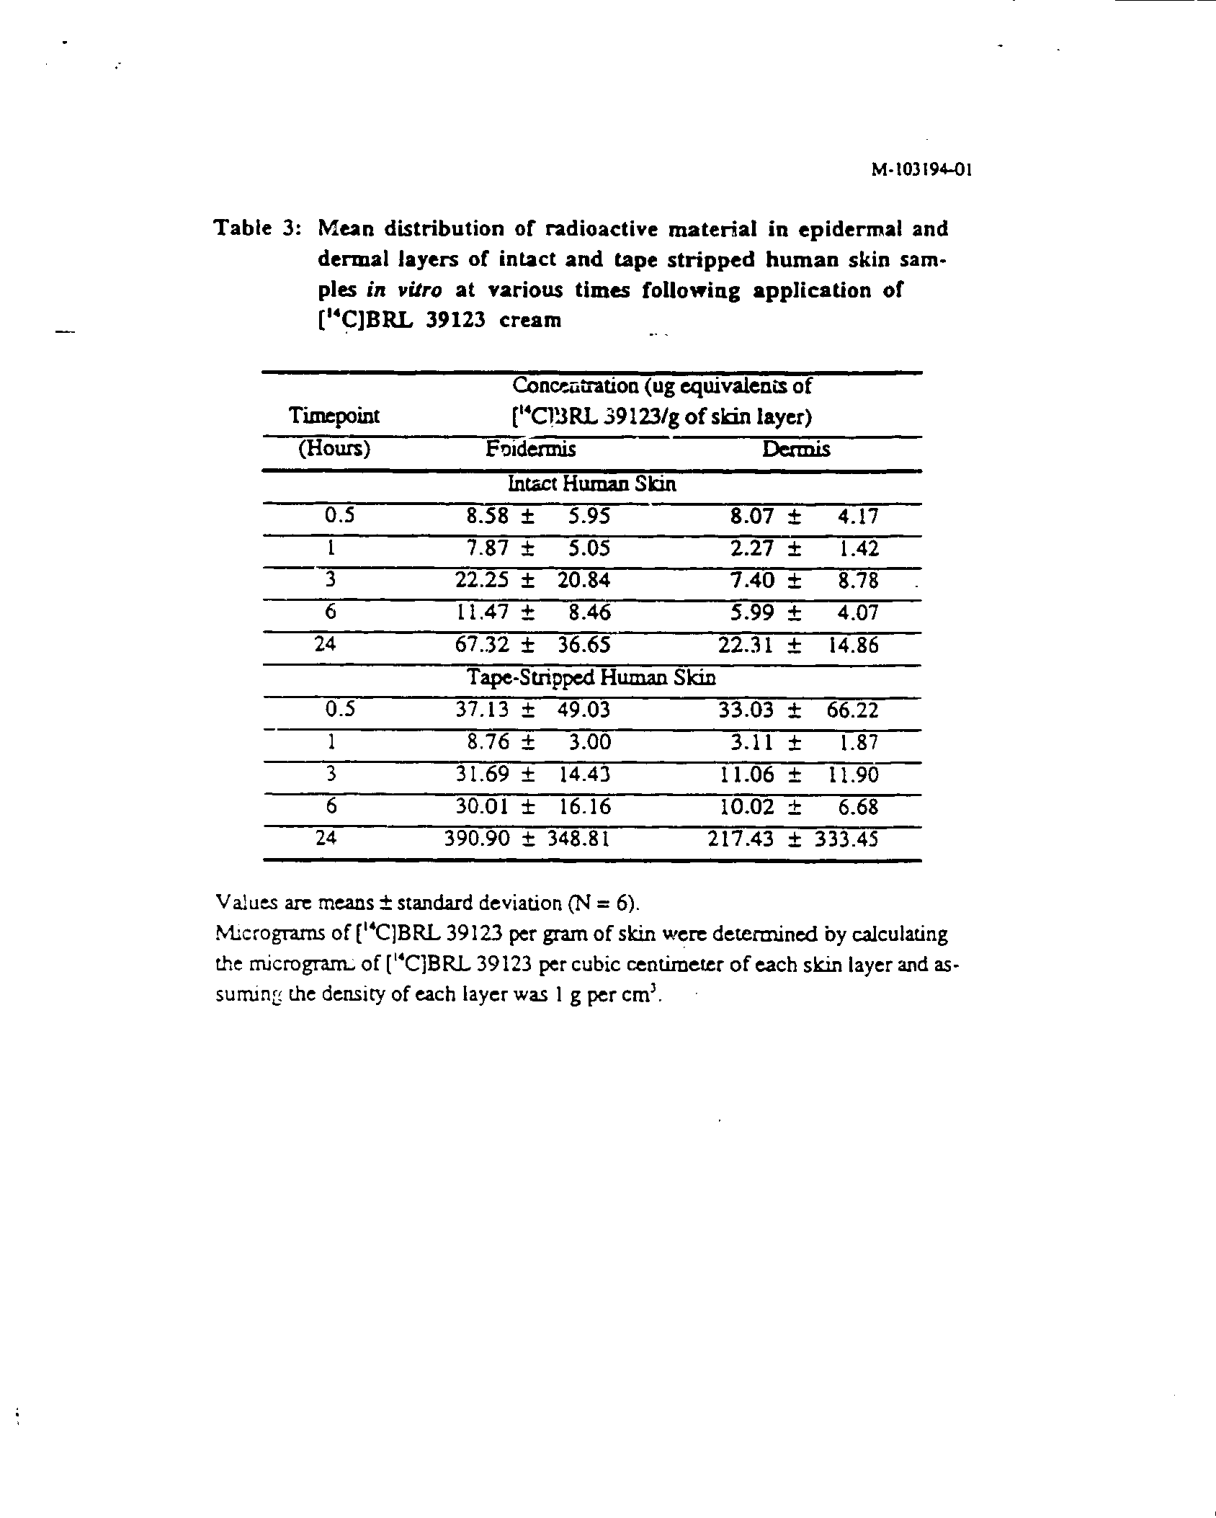partial_lined_merged_cells: (261, 370, 926, 866)
